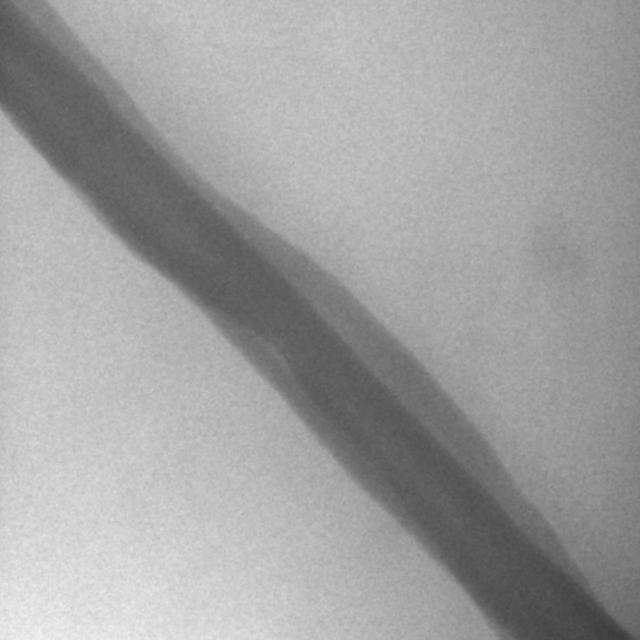unfused: (226, 317, 308, 392)
